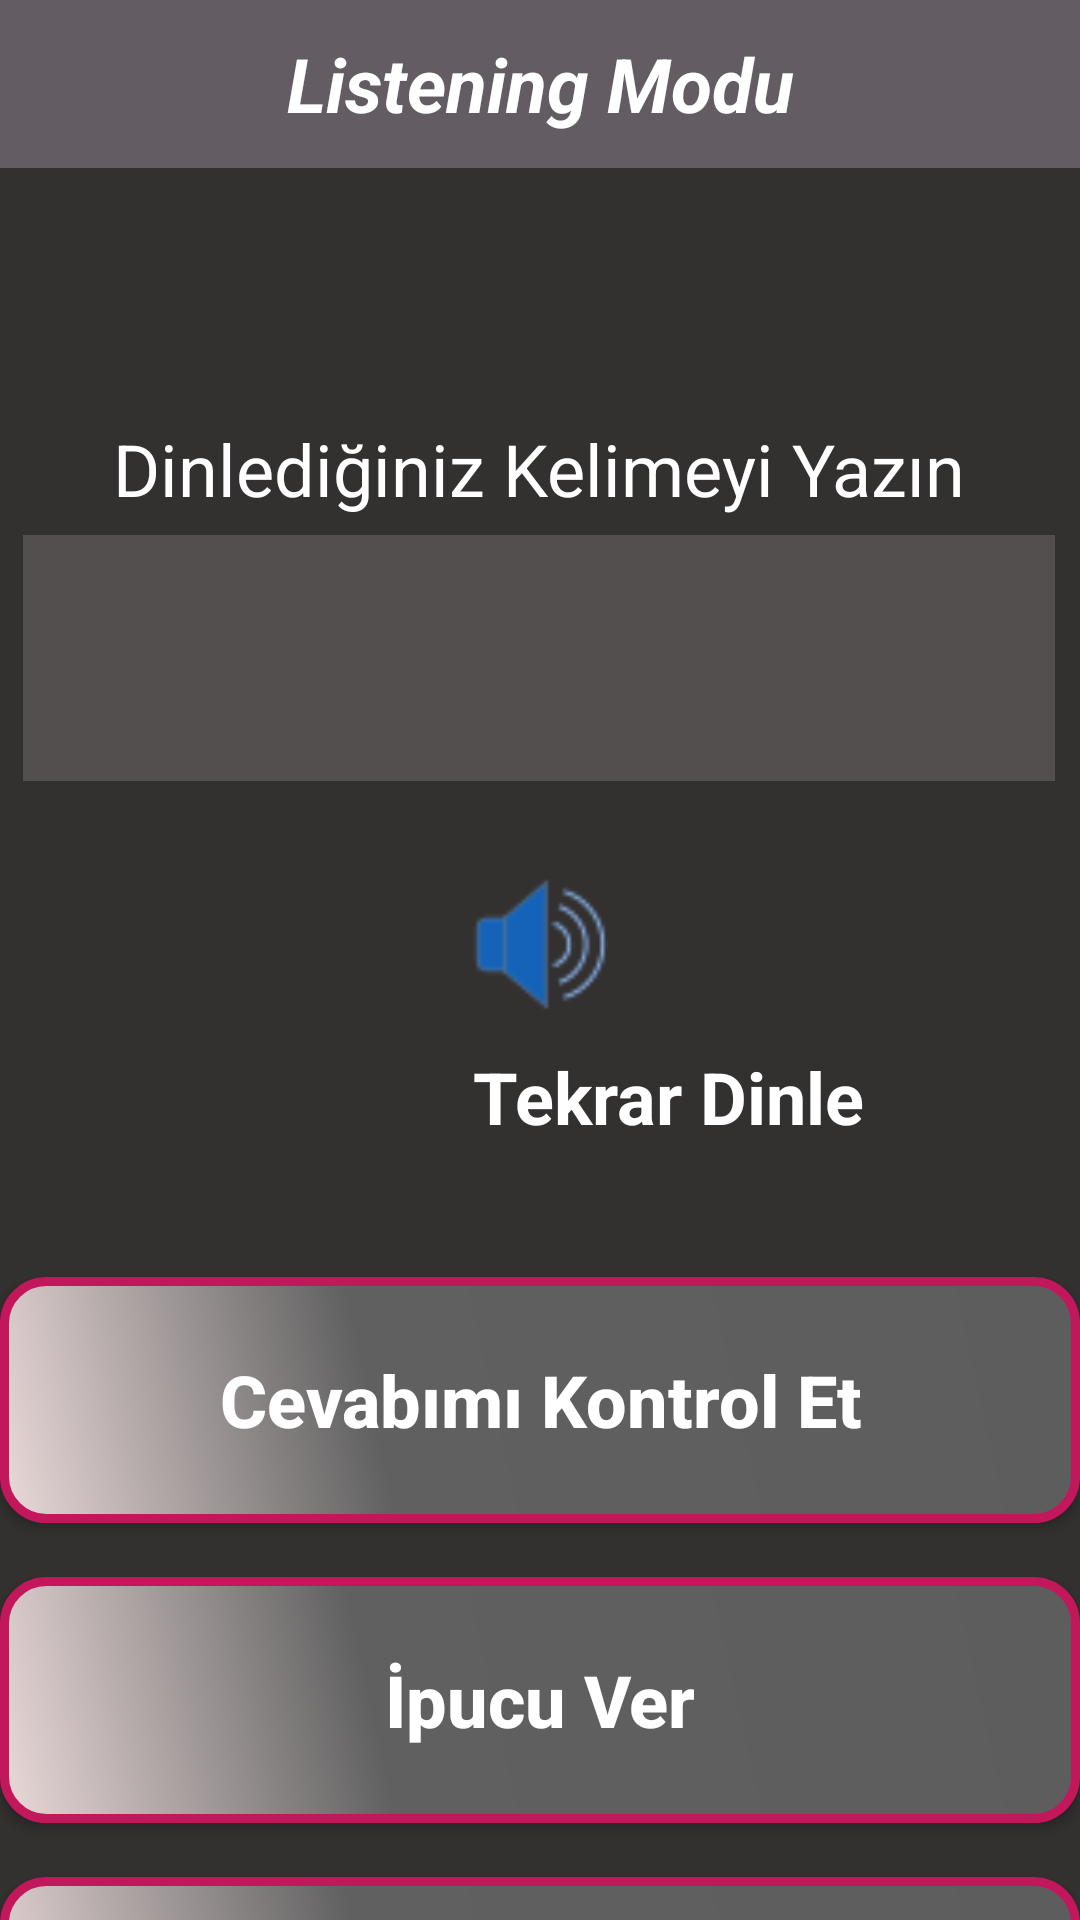

Screen size 1080px×1920px. Icon name, then its box in pixels as (x1, y1, x2, y2):
listen: (475, 880, 606, 1009)
